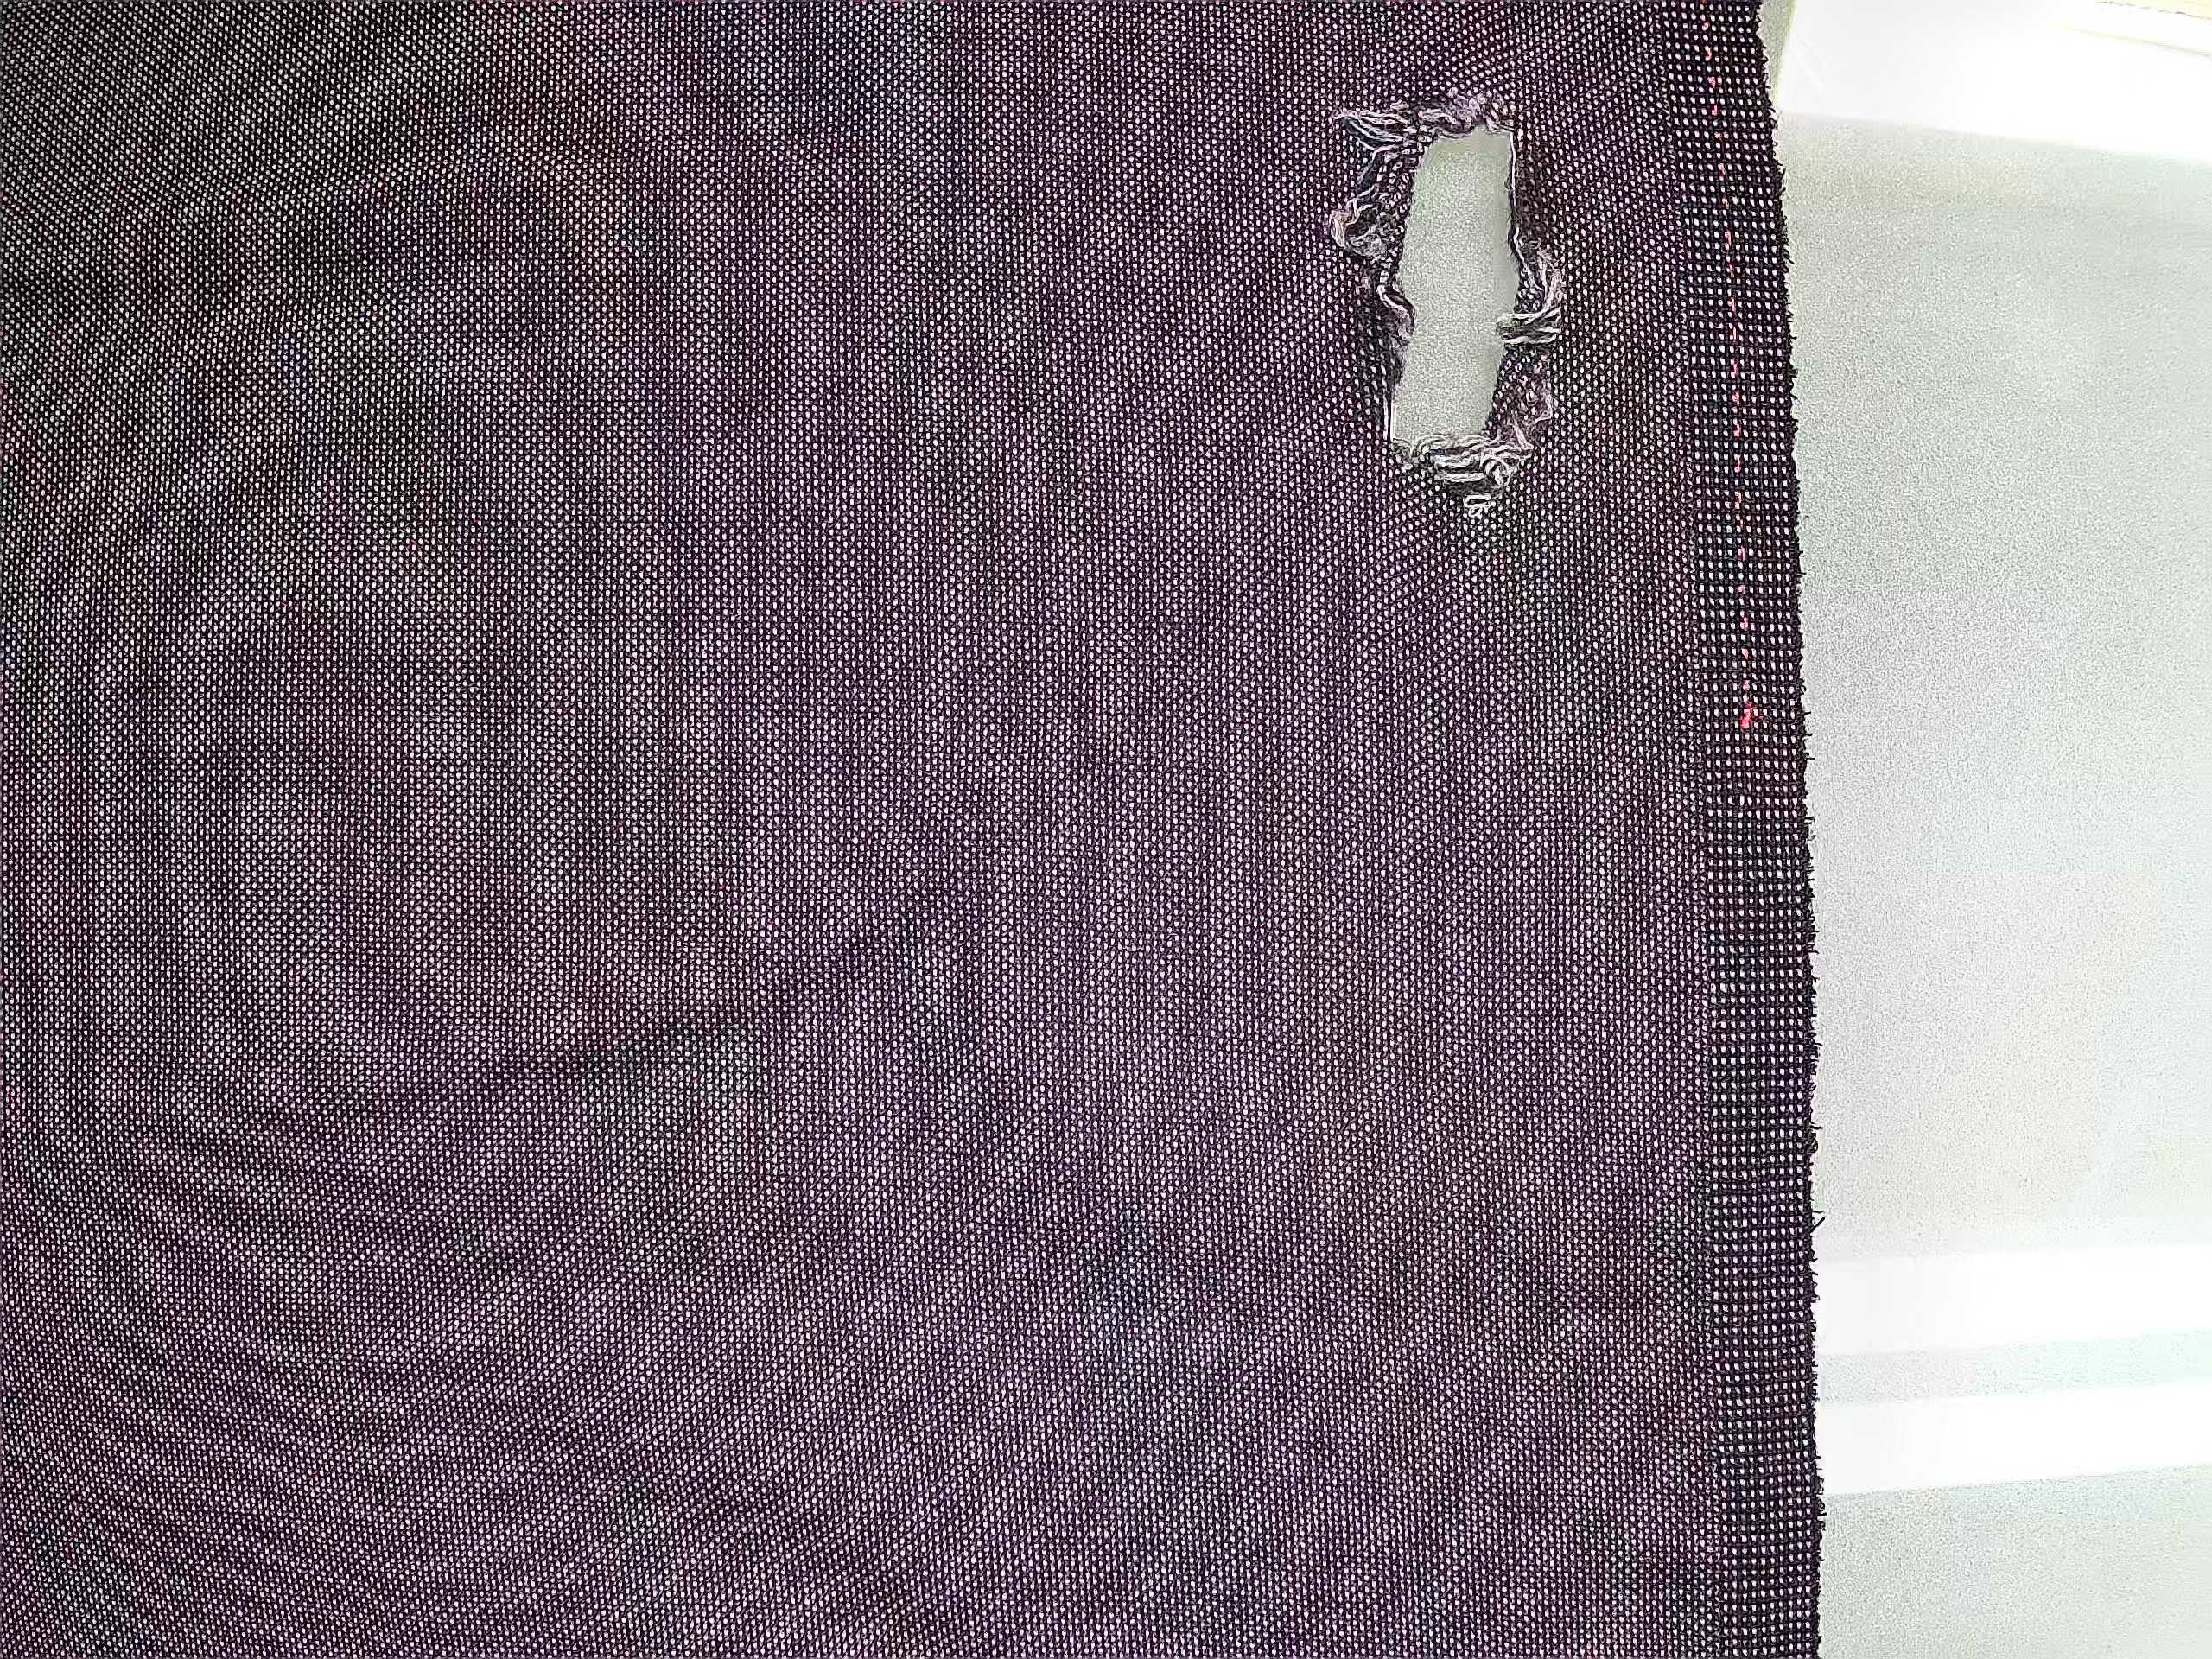brushed-hole: (1277, 51, 1625, 563)
